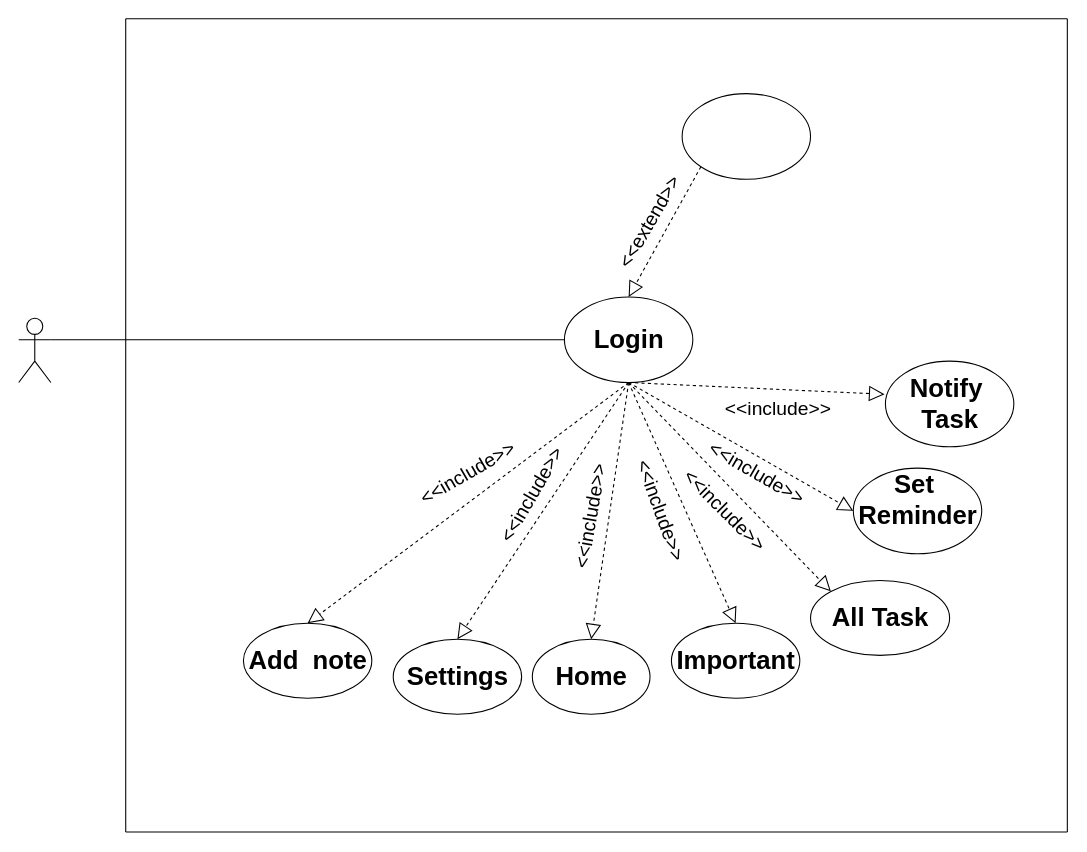
Image size: 1087x852. Some labels were removed from this diagram. Here are the shapes that lost their labels. From the top down, the centre of each, then its label:
At point 746,136: "Bad Pin".
At point 34,350: "Client".
